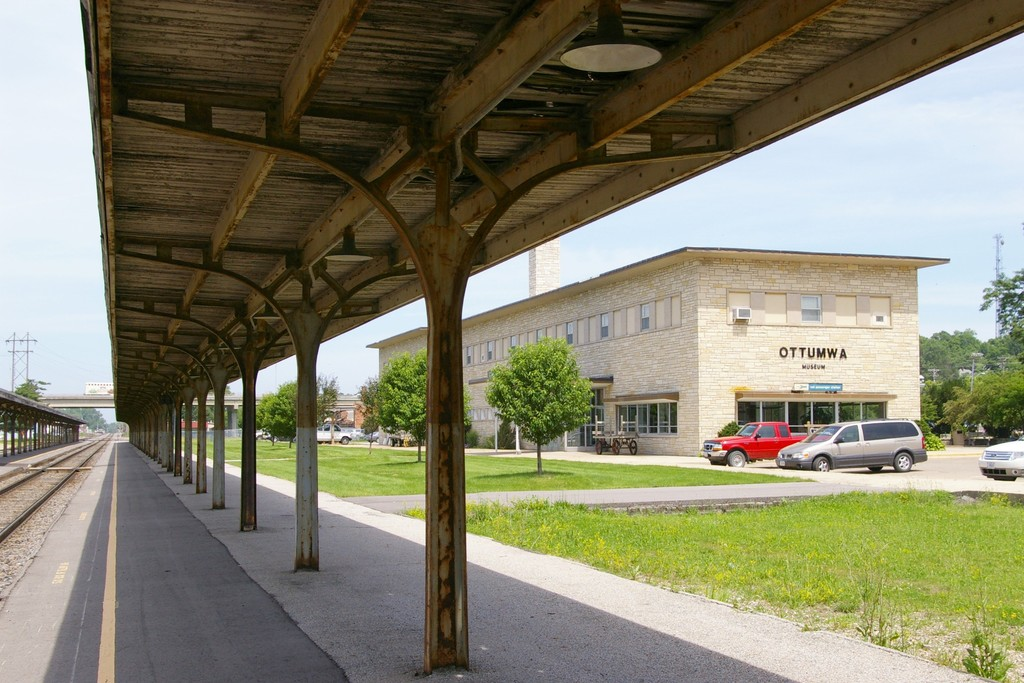Car: (791, 417, 932, 477), (978, 433, 1023, 490)
